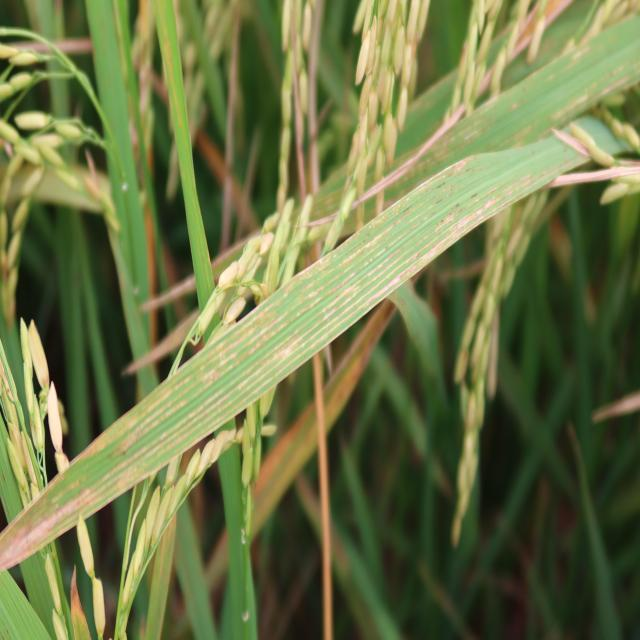Dom soc vi khuan: (0, 139, 580, 569)
